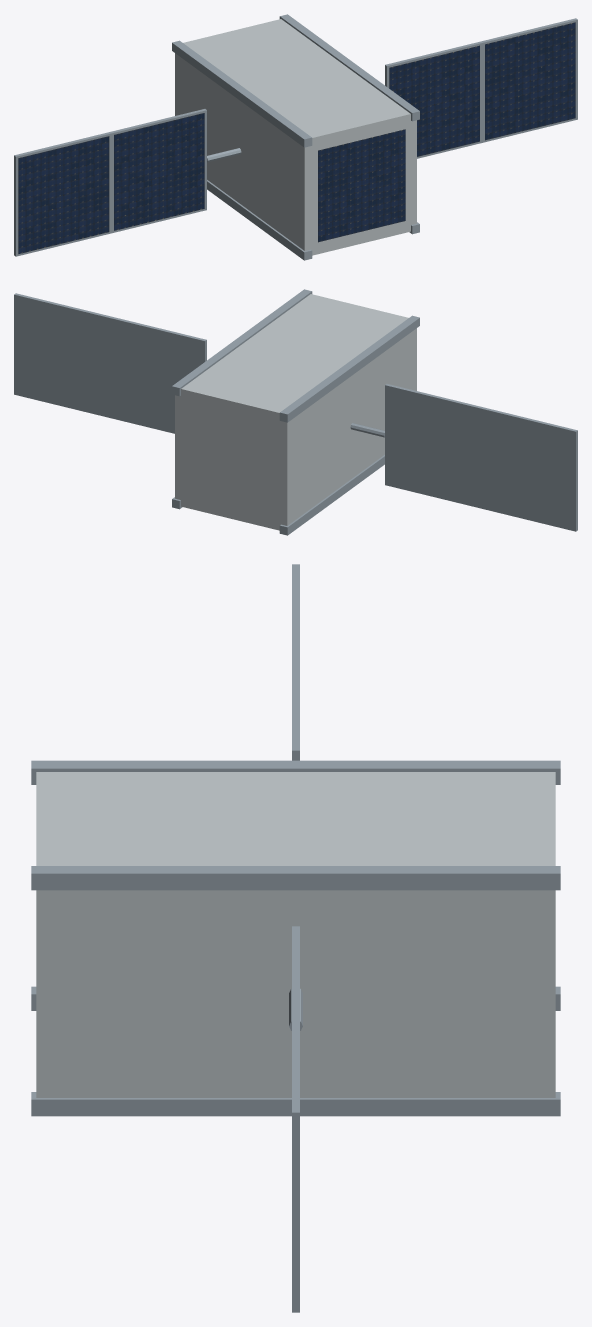
The model's file is ref-cubesat-16u-mp16-62671.glb.
3 views of the same model, one above another, from view 1: azimuth 30°, elevation 25°; view 2: azimuth 150°, elevation 25°; view 3: azimuth 270°, elevation 25° (orthographic). The views are drawn at different scales.
Visible parts, largest first — view 1: Photovoltaic laminates (×4), Spacecraft body, Body-mounted cells, Array frame (×4), Dispenser rail (×3); view 2: Array frame (×4), Spacecraft body, Dispenser rail (×3); view 3: Spacecraft body, Dispenser rail (×3), Array frame.
Part boxes in pixels (bbox=[...]): Photovoltaic laminates (×4): bbox=[18, 22, 575, 253]; Spacecraft body: bbox=[175, 19, 416, 255]; Body-mounted cells: bbox=[318, 129, 405, 242]; Array frame (×4): bbox=[14, 18, 577, 256]; Dispenser rail (×3): bbox=[172, 14, 419, 260]; Array frame (×4): bbox=[14, 293, 577, 531]; Spacecraft body: bbox=[175, 294, 416, 530]; Dispenser rail (×3): bbox=[172, 289, 419, 535]; Spacecraft body: bbox=[36, 772, 555, 1097]; Dispenser rail (×3): bbox=[31, 760, 560, 1116]; Array frame: bbox=[292, 1019, 299, 1312].
Bounding box in the file's own units: 1 × 0.206 × 0.408.
3 materials, 1 textured.
